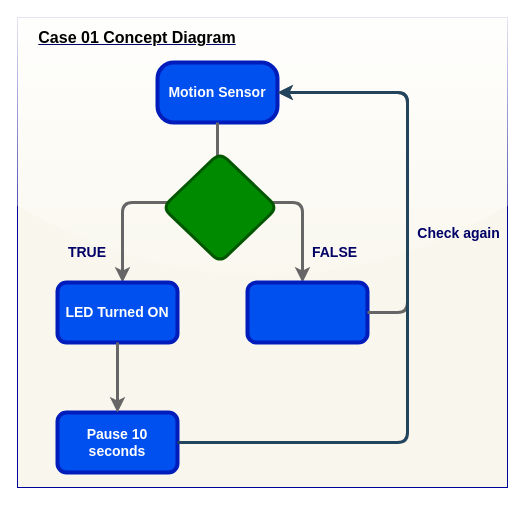
The diagram is 525 pixels wide and 505 high, and some of its shapes have lost their labels. Each missing label, with the centre of its shape:
LED Turned OFF: the point at 307,312
There are people: the point at 219,207
